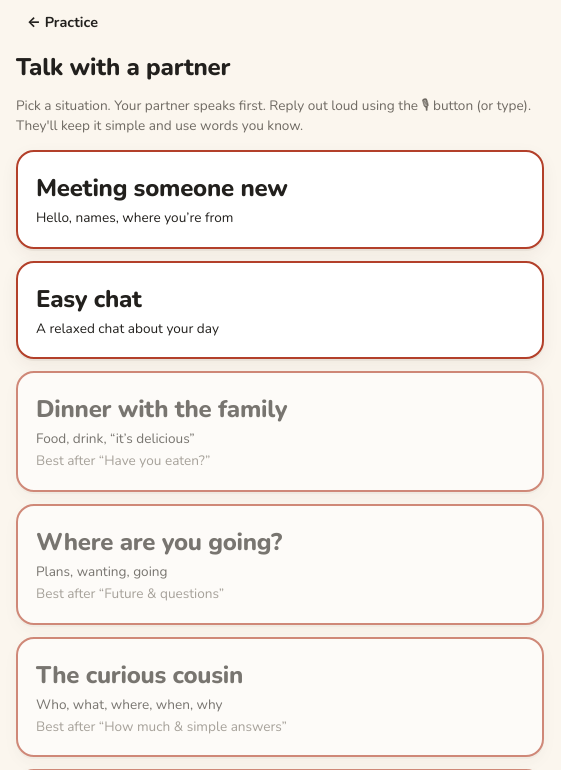
Test: Hold to talk › records while held, then shows what I said with romanization and the reply
Click the text "Meeting someone new" at (162, 188), box [36, 170, 288, 206]
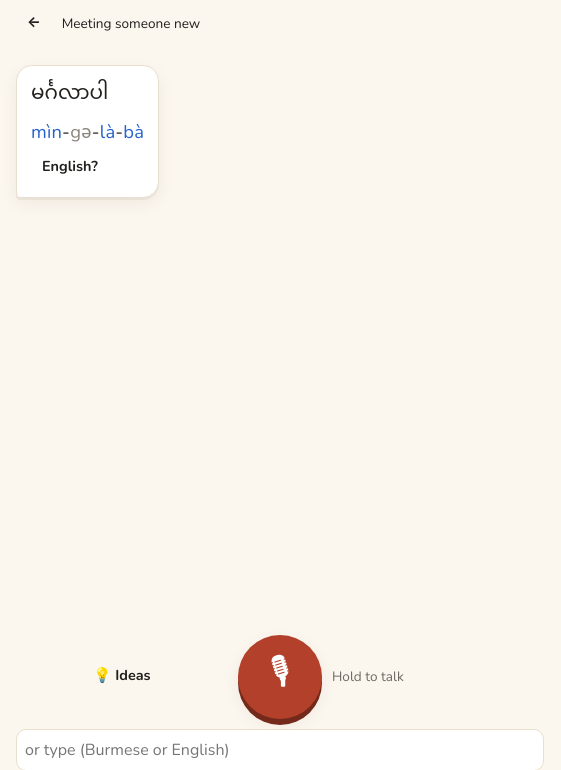
Press the mouse on the button named "Hold to talk" at (280, 677), box [238, 635, 322, 719]
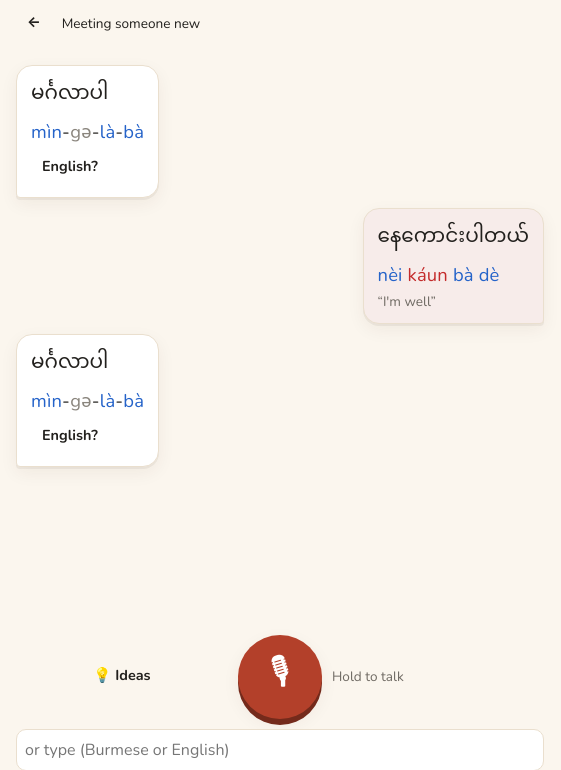
Check: the text "nèi" is shown, box [378, 262, 403, 287]
